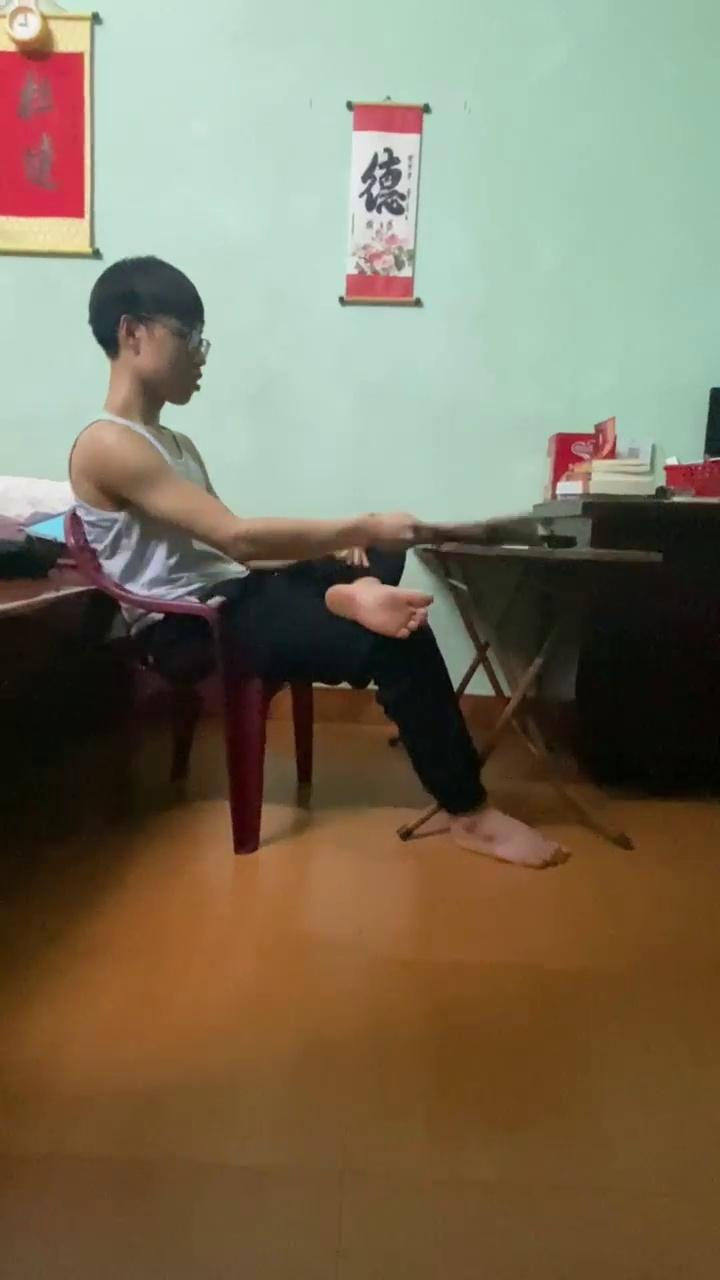BadPosture: (239, 567, 567, 869)
